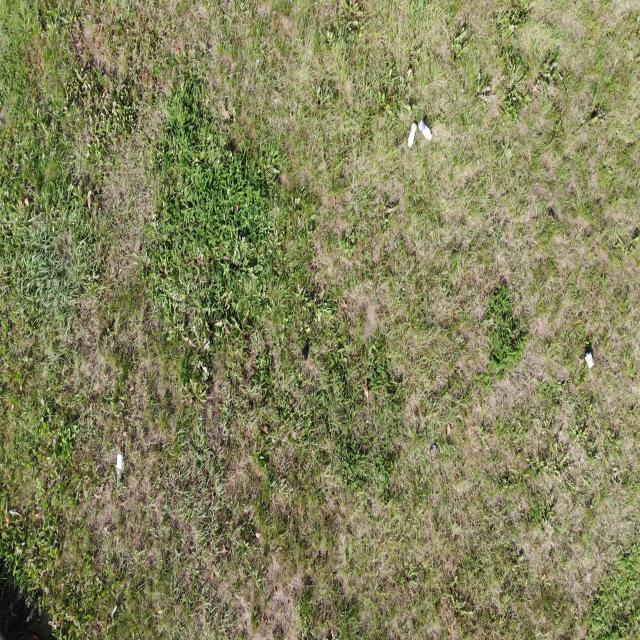rubbish: (418, 119, 433, 139), (116, 452, 124, 487), (583, 349, 595, 369), (408, 123, 418, 147)
